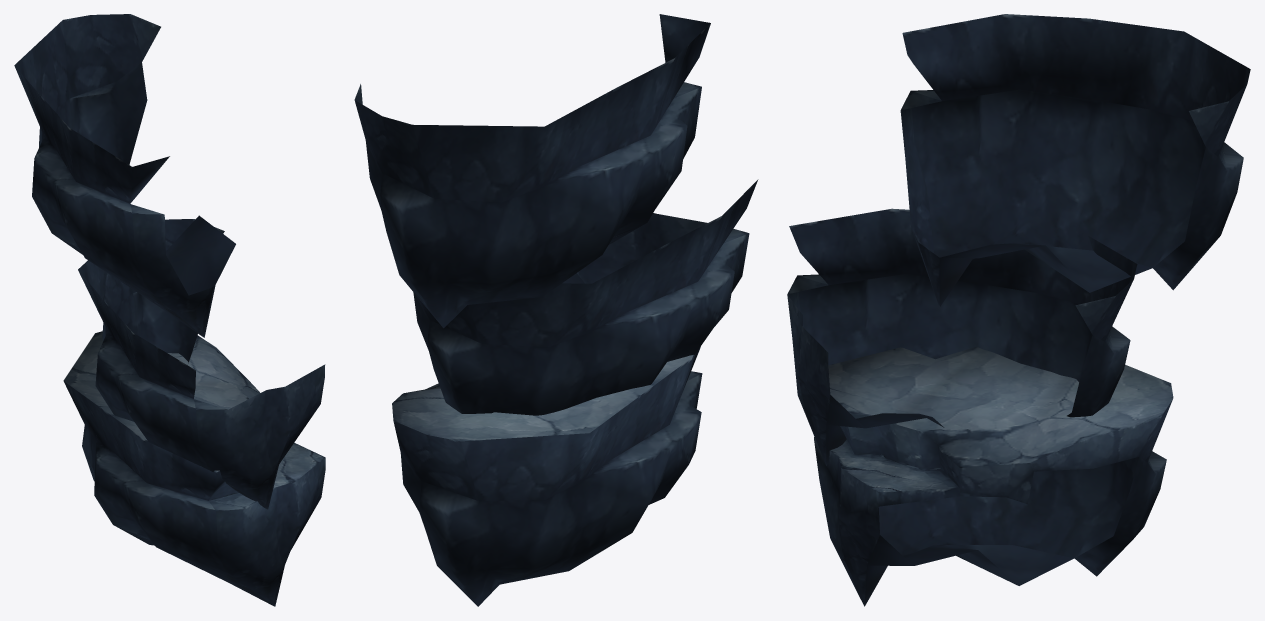
File: Area_02_15.fbx
3 views of the same model, side by side, from view 1: azimuth 30°, elevation 25°; view 2: azimuth 150°, elevation 25°; view 3: azimuth 270°, elevation 25° (orthographic). The views are drawn at different scales.
Visible parts, largest first — view 1: Area_02_15; view 2: Area_02_15; view 3: Area_02_15.
Part boxes in pixels (box(x1,y1,x2,y2)): Area_02_15: box(14, 14, 325, 606); Area_02_15: box(354, 14, 758, 606); Area_02_15: box(787, 14, 1250, 606).
Size of the model in its own units: 7228 by 15319 by 12434.
